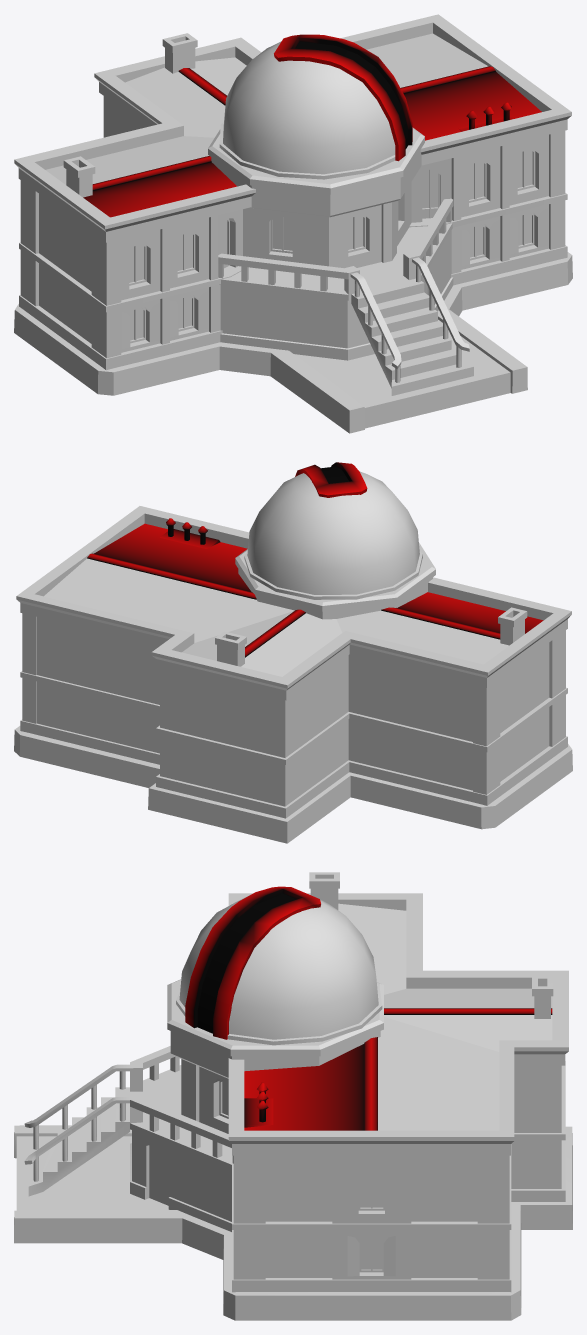
The model's file is Observatory.fbx.
The picture shows the model from 3 angles, top to bottom: view 1: azimuth 30°, elevation 25°; view 2: azimuth 150°, elevation 25°; view 3: azimuth 270°, elevation 25°; orthographic projection. The views are drawn at different scales.
Parts seen in each view (by area): view 1: Box004, Sphere015, Object007, Object015, StraightStair001, Object012, window_block_front018, corner, Plane002, Object044, Box003, Plane003 (+30 smaller); view 2: window_block_front018, Sphere015, Box004, Object007, Plane003, Object012, Box013, Box003, Plane002, Box001, Object041, Cylinder001 (+11 smaller); view 3: Box004, Sphere015, Plane003, Object007, Object044, Object038, Object037, Plane002, Object012, Object015, window_block_front018, Object030 (+19 smaller).
Part boxes in pixels (left/top/right/bottom): Box004: left=14, top=252, right=572, bottom=433; Sphere015: left=219, top=41, right=395, bottom=179; Object007: left=14, top=14, right=571, bottom=231; Object015: left=220, top=230, right=453, bottom=360; StraightStair001: left=351, top=278, right=473, bottom=395; Object012: left=46, top=67, right=225, bottom=184; window_block_front018: left=39, top=96, right=145, bottom=343; corner: left=91, top=130, right=565, bottom=358; Plane002: left=404, top=71, right=541, bottom=140; Object044: left=274, top=34, right=412, bottom=161; Box003: left=18, top=82, right=567, bottom=242; Plane003: left=191, top=33, right=488, bottom=95; window_block_front018: left=36, top=617, right=549, bottom=806; Sphere015: left=244, top=471, right=422, bottom=599; Box004: left=14, top=726, right=572, bottom=843; Object007: left=16, top=506, right=571, bottom=690; Plane003: left=44, top=558, right=294, bottom=660; Object012: left=241, top=610, right=508, bottom=676; Box013: left=20, top=719, right=567, bottom=818; Box003: left=20, top=603, right=567, bottom=700; Plane002: left=94, top=523, right=251, bottom=591; Box001: left=20, top=671, right=567, bottom=764; Object041: left=473, top=678, right=500, bottom=794; Cylinder001: left=235, top=543, right=435, bottom=611; Box004: left=14, top=1125, right=572, bottom=1320; Sphere015: left=176, top=896, right=382, bottom=1045; Plane003: left=378, top=1015, right=552, bottom=1130; Object007: left=228, top=893, right=568, bottom=1143; Object044: left=185, top=886, right=320, bottom=1039; Object038: left=265, top=1155, right=332, bottom=1277; Object037: left=411, top=1155, right=477, bottom=1277; Plane002: left=244, top=1044, right=364, bottom=1130; Object012: left=338, top=903, right=552, bottom=1008; Object015: left=130, top=1130, right=231, bottom=1231; window_block_front018: left=511, top=1065, right=561, bottom=1188; Object030: left=332, top=1155, right=411, bottom=1223.
Size of the model in its own units: 871 by 829 by 487.
